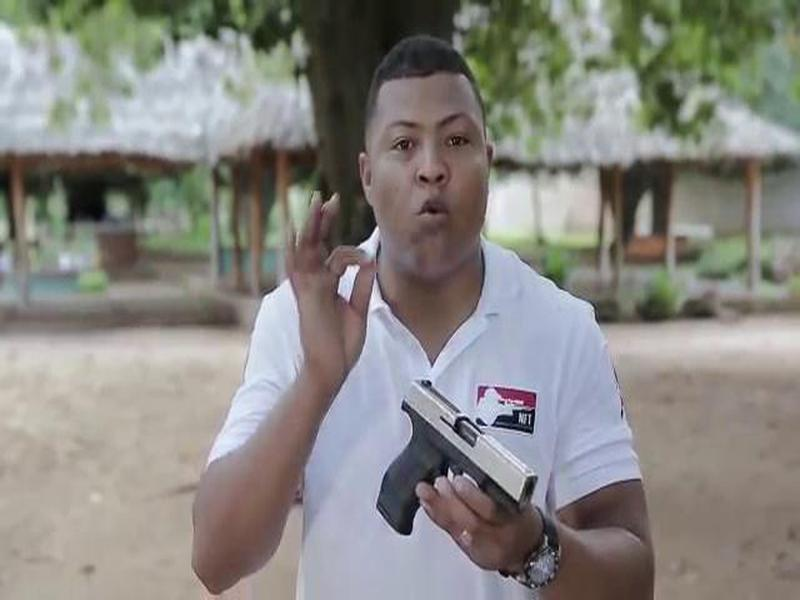Pistola: (376, 373, 548, 556)
